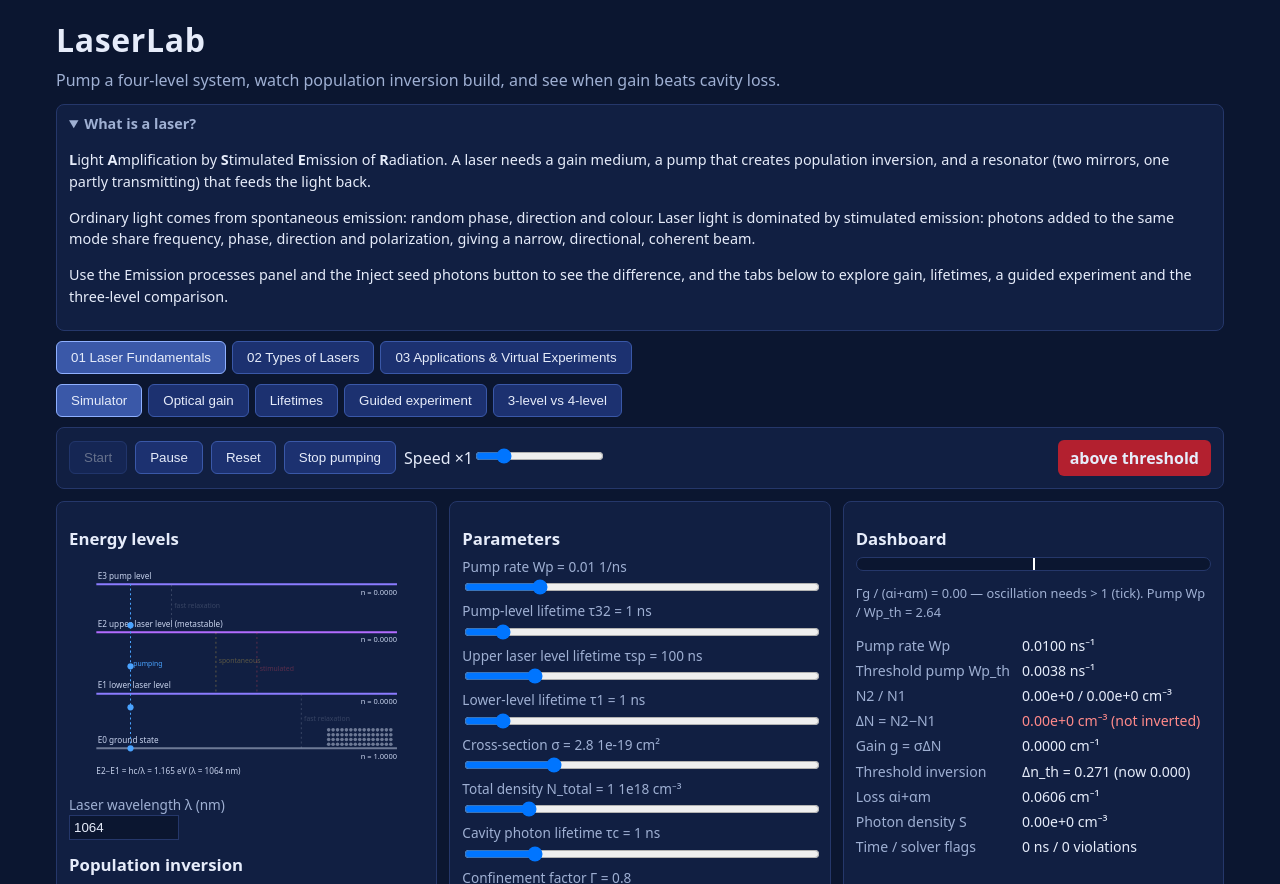
Test: new sections › Types of Lasers shows the Kr+ case study; Fundamentals still works afterwards
Click the button "02 Types of Lasers" at (303, 357), box [232,341,374,374]
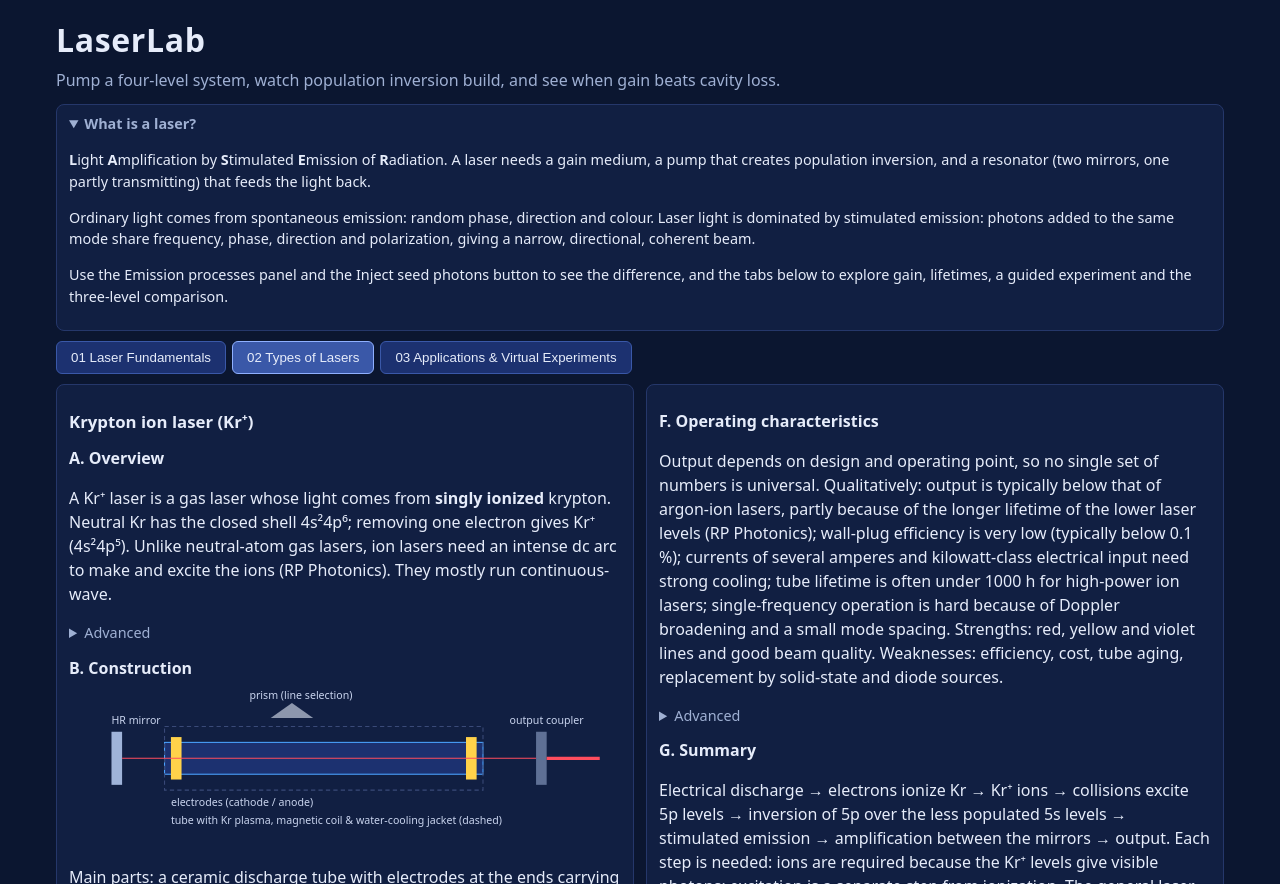
Now the heading "Krypton ion laser (Kr⁺)" is shown, box [69,410,254,433]
Now the text "singly ionized" is shown, box [435,487,544,509]
Click the button "01 Laser Fundamentals" at (141, 357), box [56,341,226,374]
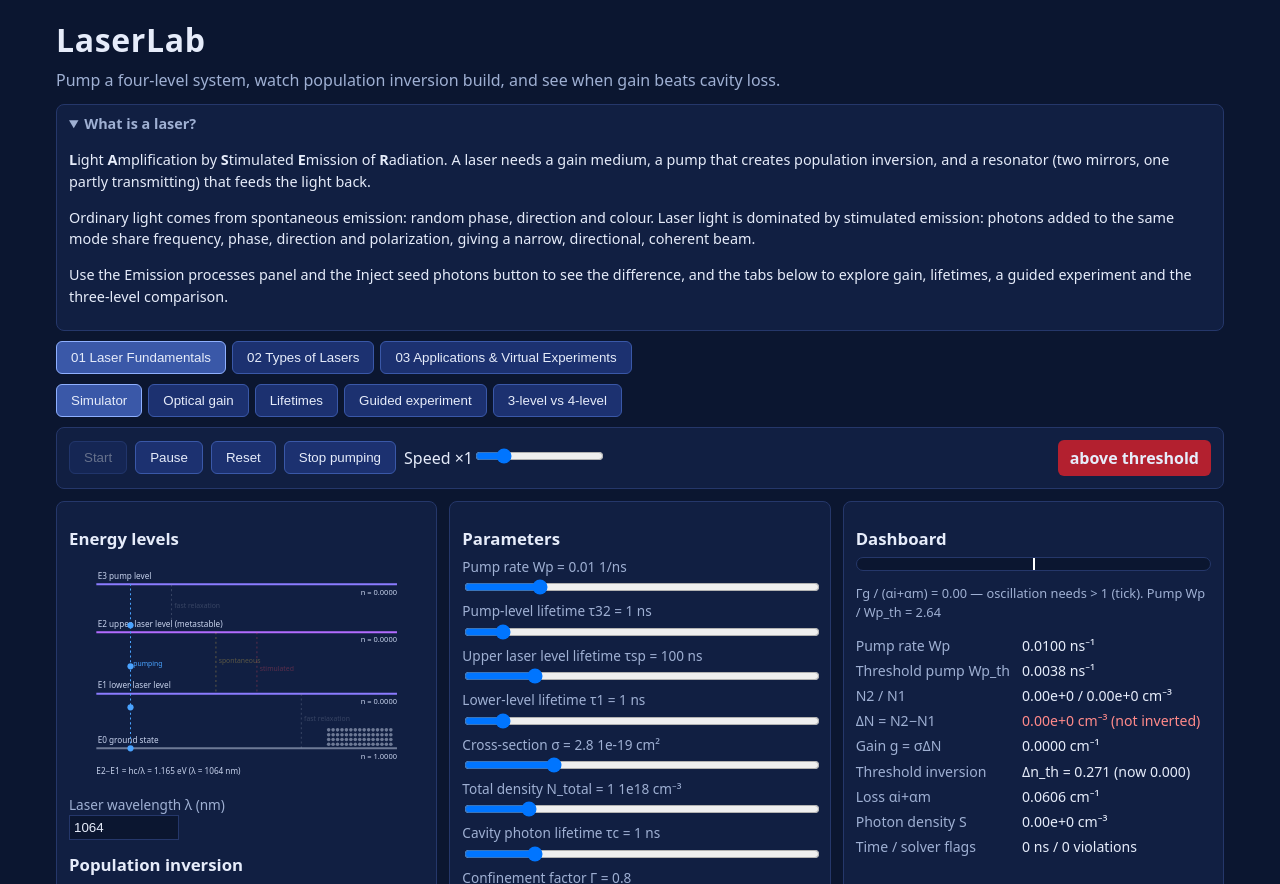
Set the slider labelled "Pump rate Wp" to "0.03" at (676, 587), box [464,579,820,595]
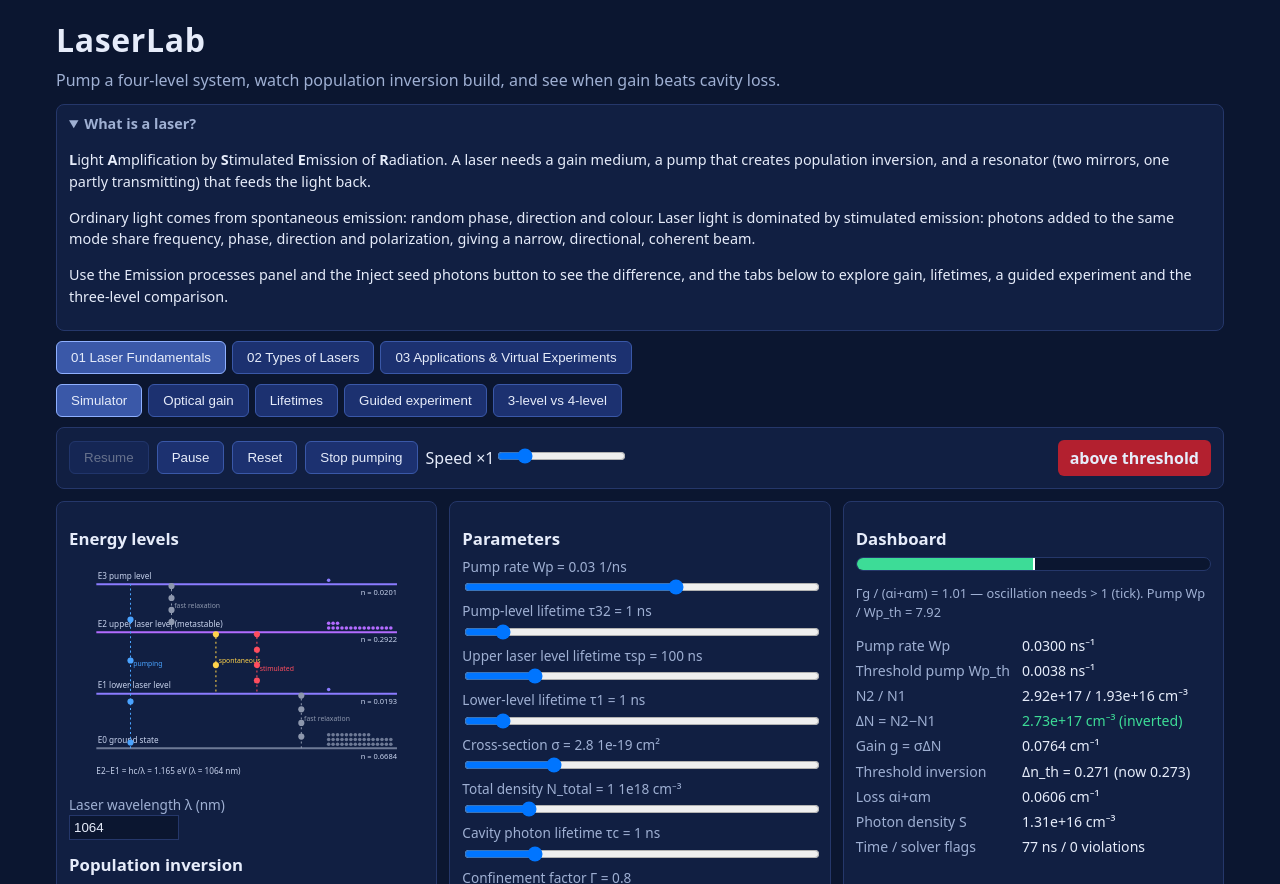
Now the text with test id "wp" shows "0.0300", box [1022,636,1066,655]
